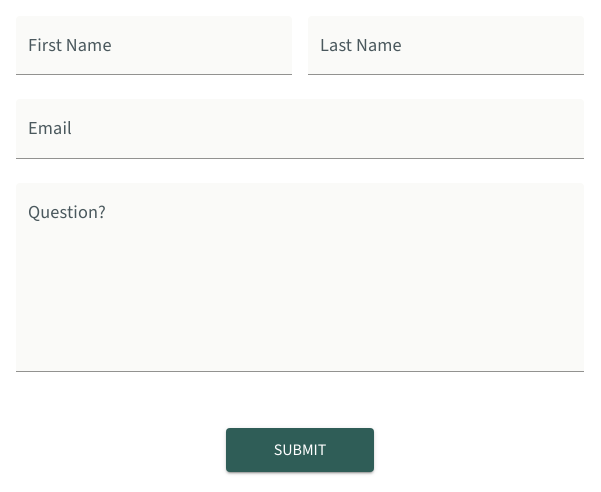
when Formspree is configured › thanks the sender on success
The image size is (601, 492).
Type "James" into the field labelled "First Name" at (154, 46), box 16,16 -> 292,75
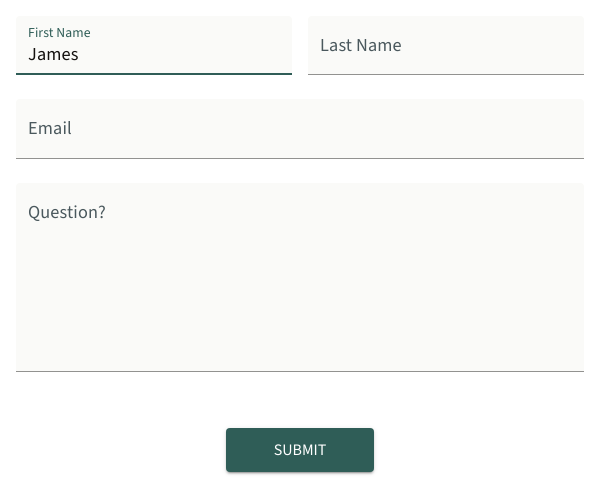
Type "Hurley" into the field labelled "Last Name" at (446, 46), box 308,16 -> 584,75
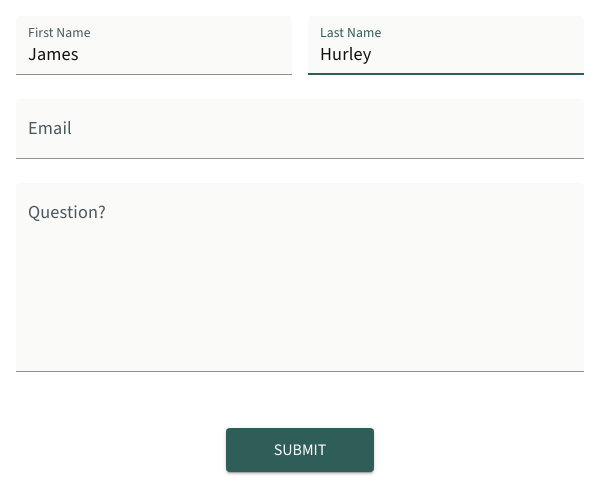
Type "james@example.com" into the field labelled "Email" at (300, 129), box 16,99 -> 584,159
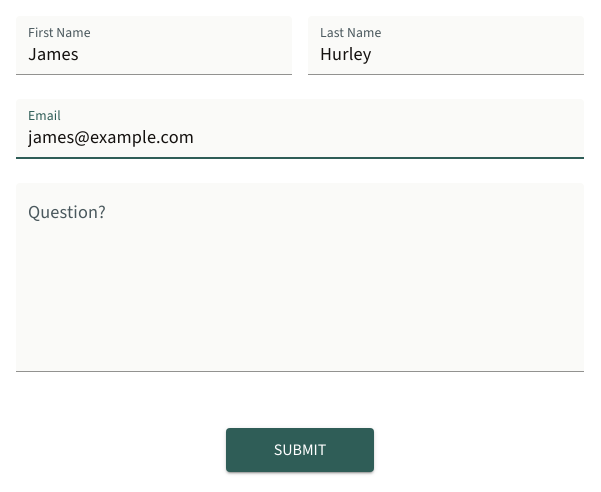
Type "This message is comfortably longer than twenty characters." into the text box labelled "Question?" at (300, 286), box 28,208 -> 572,364
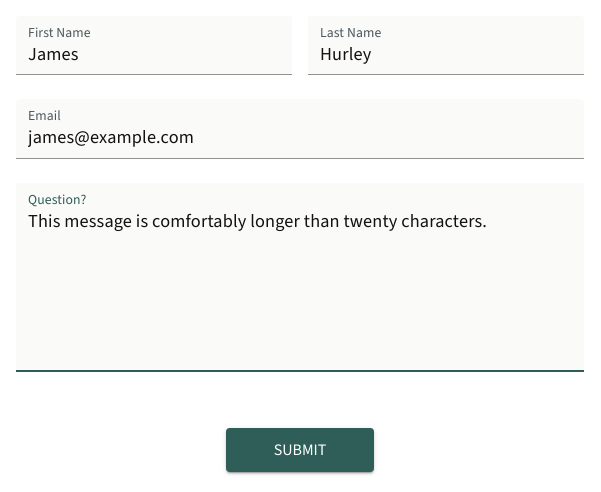
Click the button "Submit" at (300, 450), box 226,428 -> 374,472
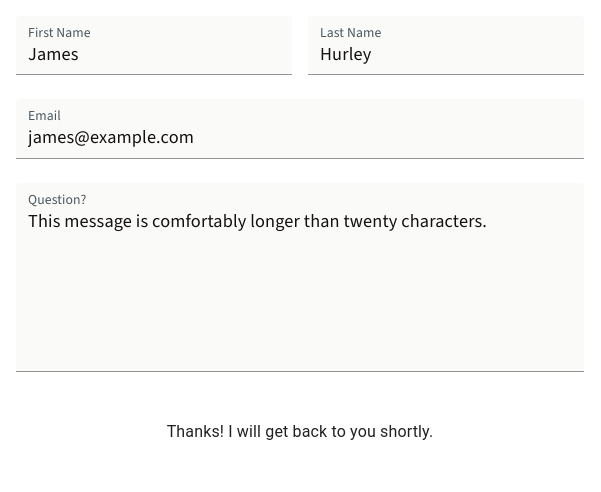
Check: the text "Thanks! I will get back to you shortly." is shown, box 167,422 -> 433,441
